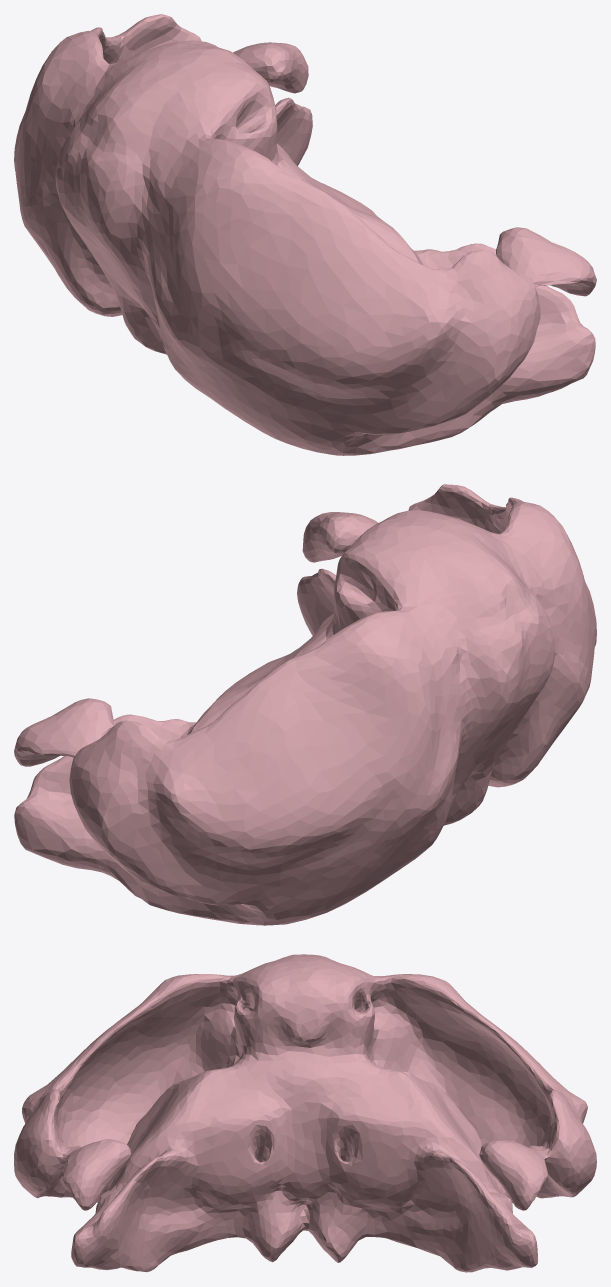
3 views of the same model, one above another, from view 1: azimuth 30°, elevation 25°; view 2: azimuth 150°, elevation 25°; view 3: azimuth 270°, elevation 25° (orthographic). The views are drawn at different scales.
Visible parts, largest first — view 1: 856.obj; view 2: 856.obj; view 3: 856.obj.
Part boxes in pixels (<box>): 856.obj: <box>14,14,596,455</box>; 856.obj: <box>14,484,596,925</box>; 856.obj: <box>14,954,596,1272</box>.
Size of the model in its own units: 3344 by 2921 by 5858.
